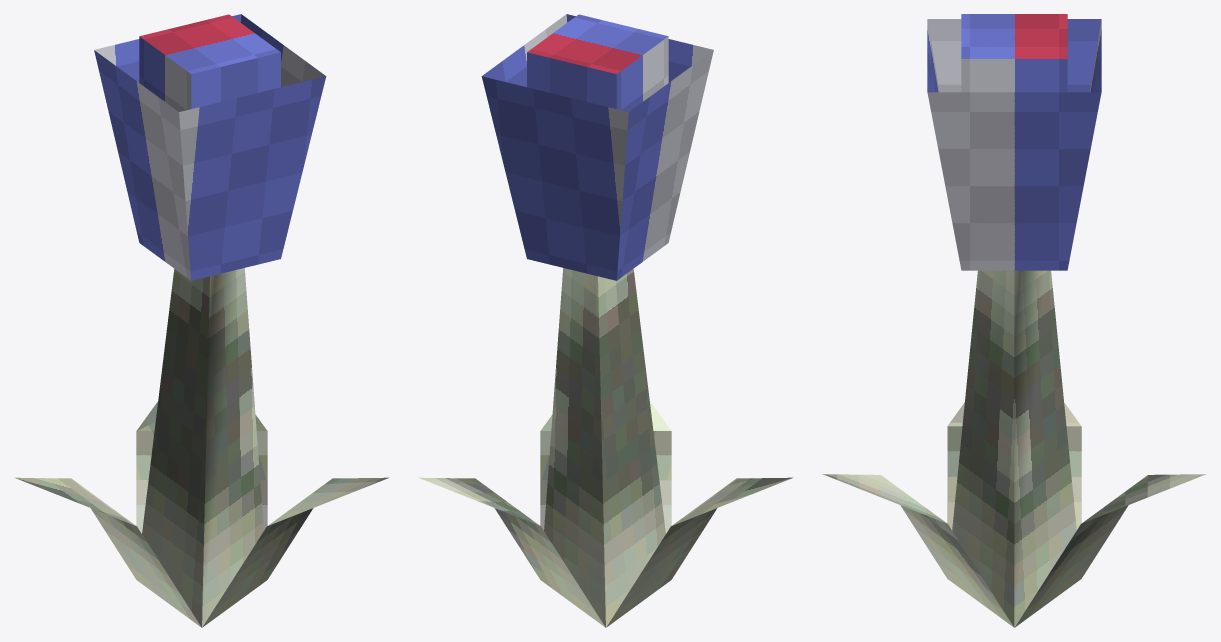
Rendered from flores_altura.glb.
The picture shows the model from 3 angles, left to right: view 1: azimuth 30°, elevation 25°; view 2: azimuth 150°, elevation 25°; view 3: azimuth 270°, elevation 25°; orthographic projection. The views are drawn at different scales.
Visible parts, largest first — view 1: flores_altura; view 2: flores_altura; view 3: flores_altura.
Boxes of the visible parts, x1,y1,x2,y2 form: flores_altura: [14, 14, 389, 627]; flores_altura: [418, 14, 793, 627]; flores_altura: [822, 14, 1206, 627].
Size of the model in its own units: 0.1904 by 0.35 by 0.2167.
Materials: 2 (2 with a texture image).
